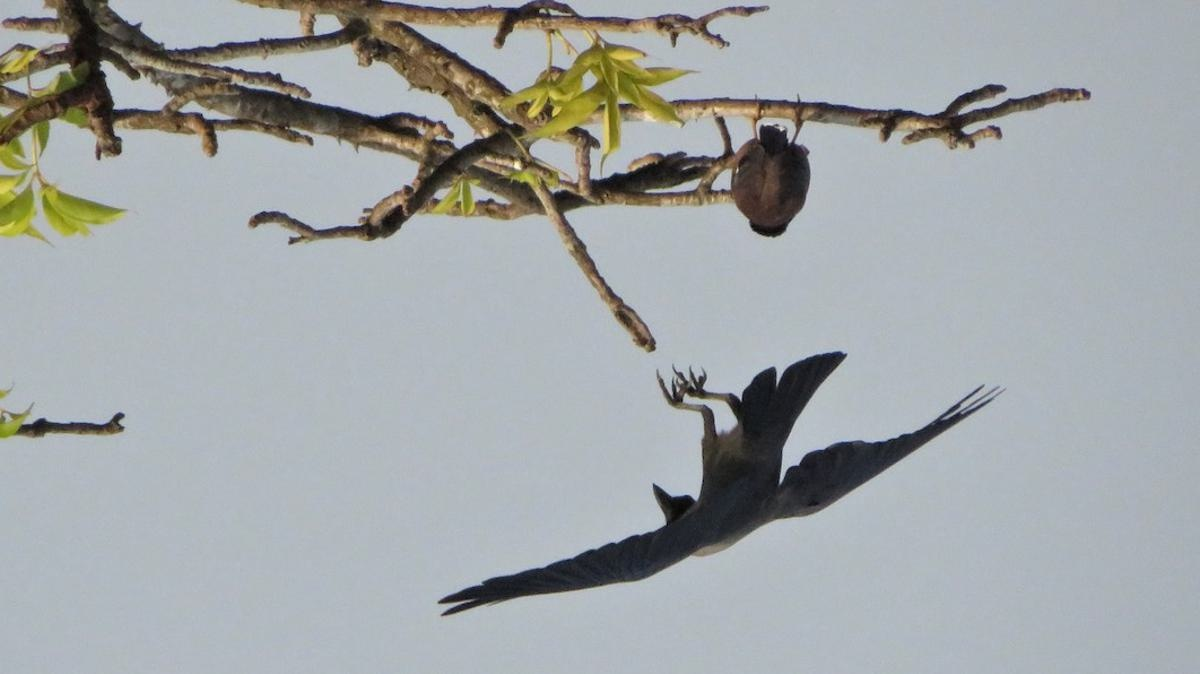crow: (435, 343, 1013, 630)
